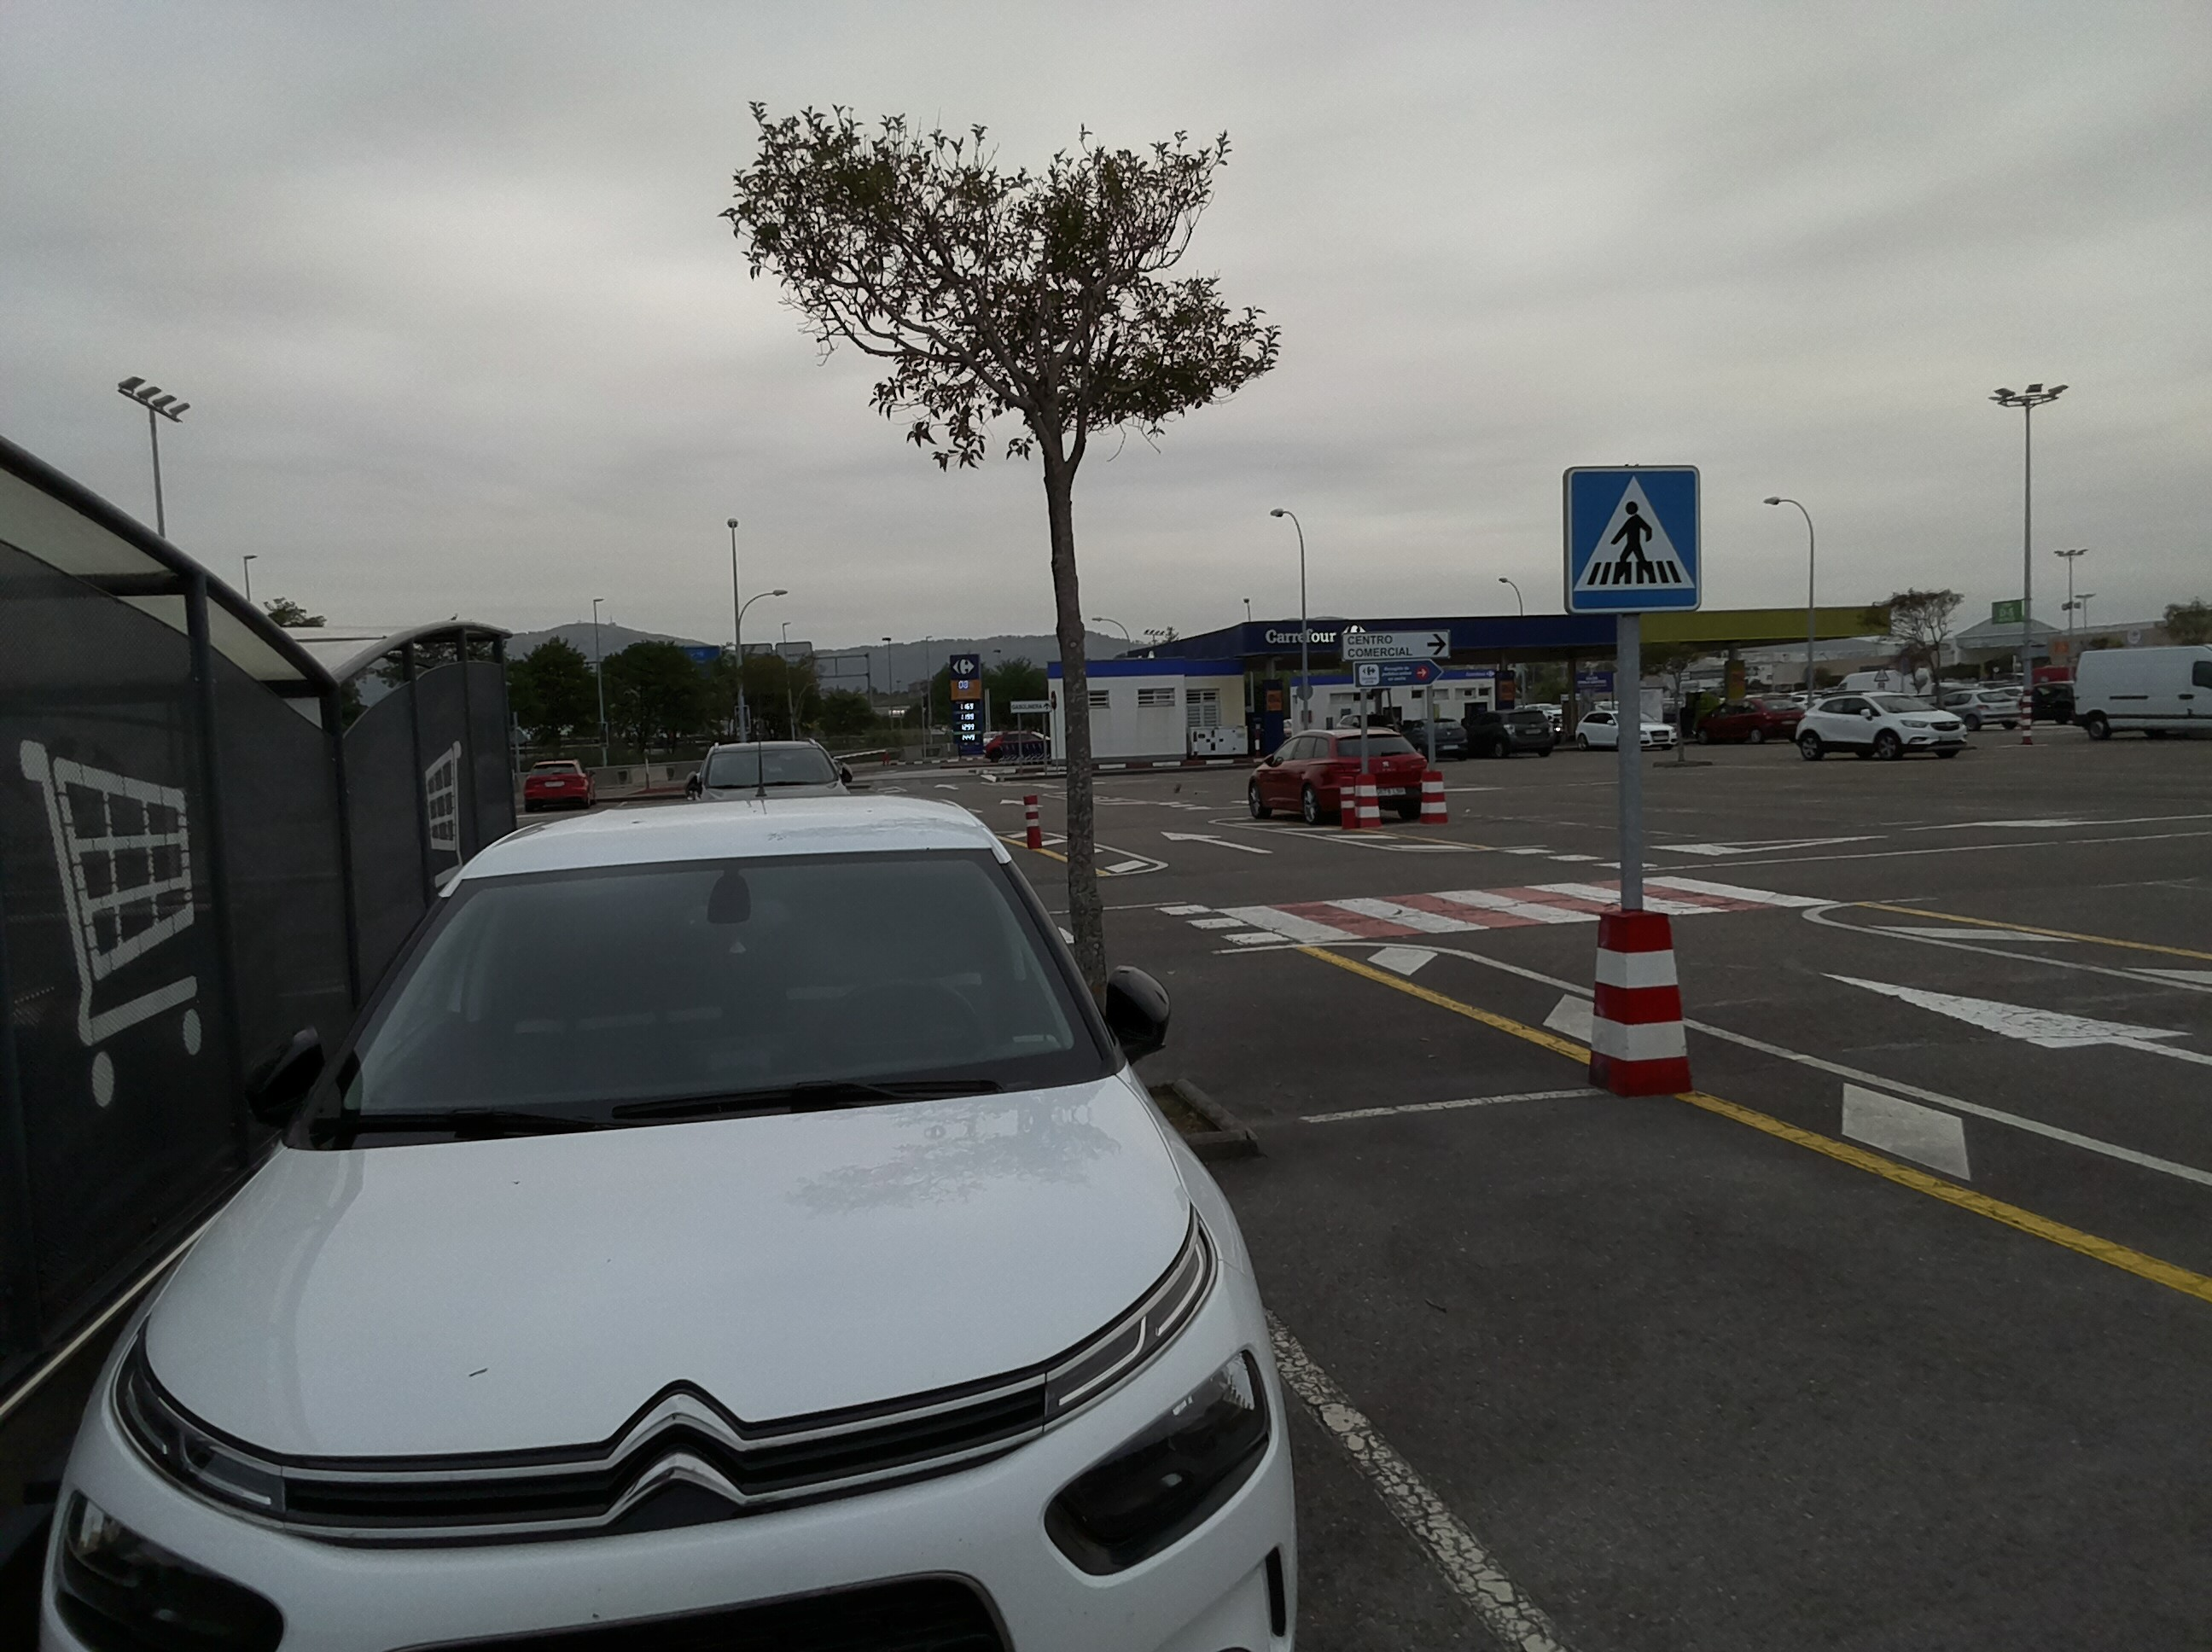Arbol: (848, 95, 1195, 1064)
Cartel: (1546, 462, 1718, 619)
Poste: (1577, 894, 1697, 1102), (1596, 613, 1667, 921)
Vehiculo: (80, 783, 1325, 1652)
